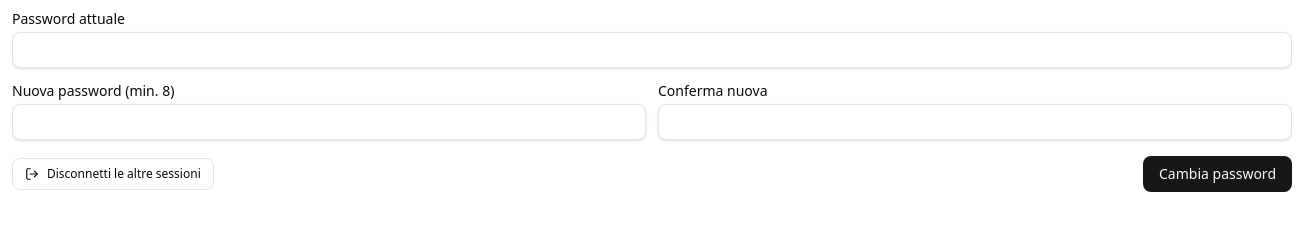
ChangePasswordForm › non manda niente al server se le due nuove password non coincidono
This screenshot has width=1304, height=245.
In the password field labelled "Password attuale": [652, 50] box [12,32,1292,68], type "vecchia1234"
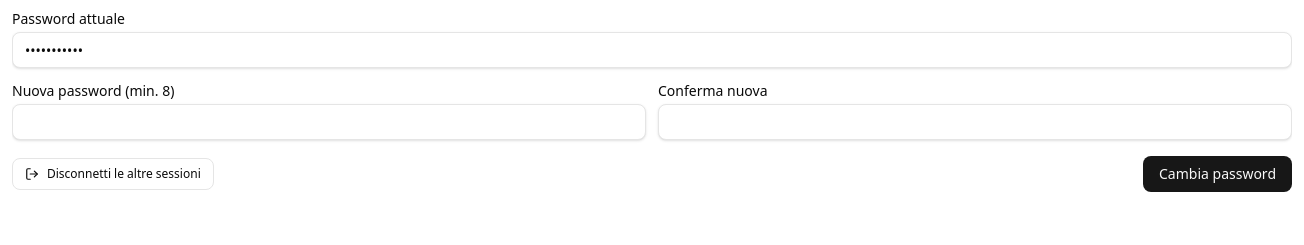
In the password field labelled "Nuova password (min. 8)": [329, 122] box [12,104,646,140], type "nuova12345"
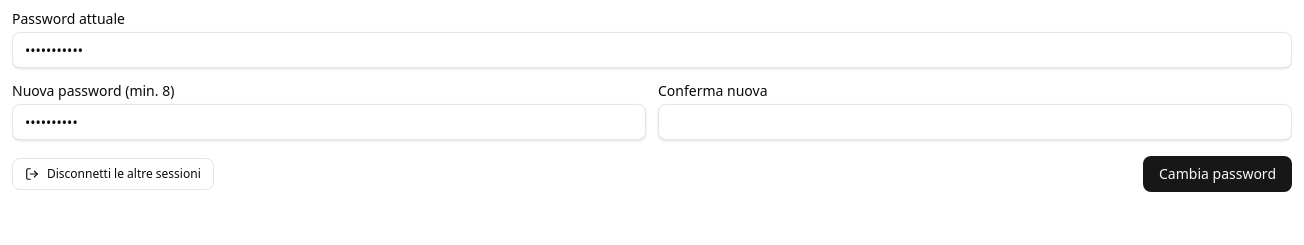
In the password field labelled "Conferma nuova": [975, 122] box [658,104,1292,140], type "nuova54321"
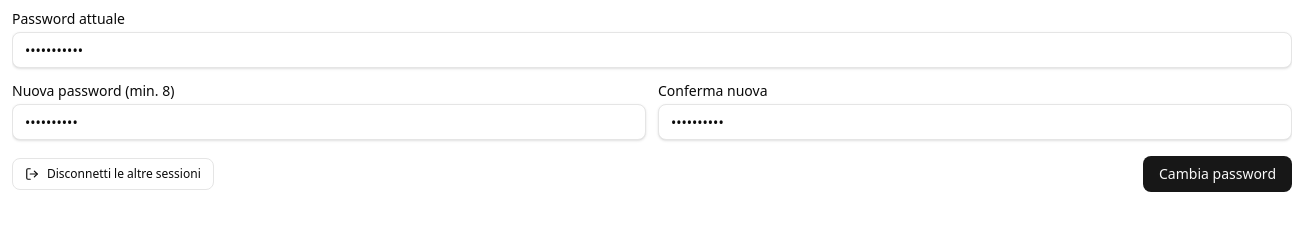
Click the button "Cambia password": [1218, 174] box [1143,156,1292,192]
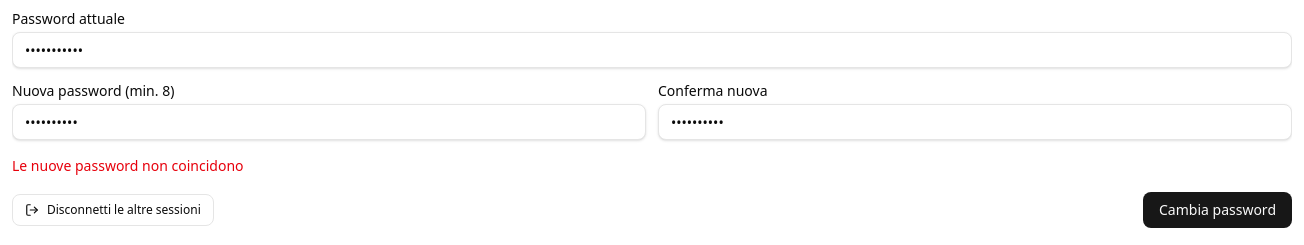
Expected: the text "Le nuove password non coincidono" is shown, [12,156,244,175]
